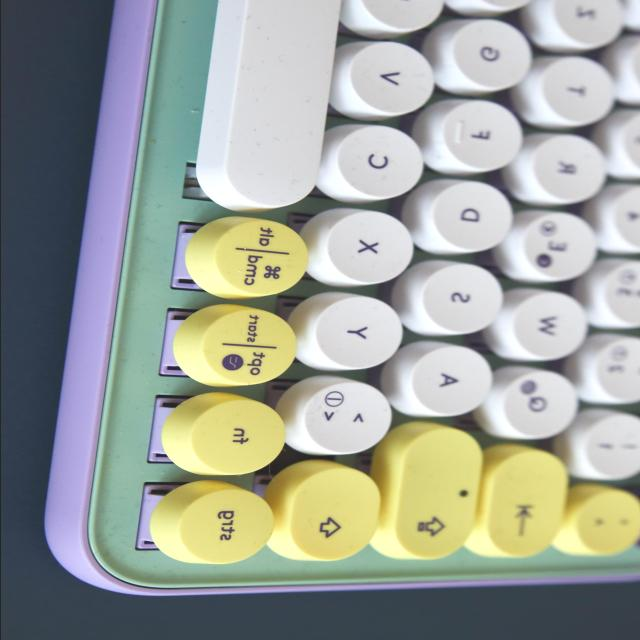1: (574, 412, 640, 482)
2: (584, 333, 640, 406)
3: (596, 259, 640, 331)
a: (402, 342, 496, 419)
alt-left: (191, 305, 299, 385)
b: (342, 0, 448, 35)
c: (324, 123, 426, 205)
caret: (566, 487, 640, 557)
d: (418, 179, 516, 256)
e: (502, 211, 599, 285)
f: (428, 98, 526, 174)
g: (437, 19, 534, 95)
keyboard: (7, 0, 640, 606)
less: (286, 376, 394, 458)
q: (486, 367, 580, 442)
r: (527, 133, 612, 205)
s: (411, 260, 505, 338)
shift-left: (279, 460, 384, 566)
shift-lock: (389, 426, 483, 563)
space: (212, 0, 342, 211)
strg-left: (164, 486, 272, 566)
t: (532, 57, 617, 129)
tab: (484, 445, 571, 562)
v: (334, 39, 440, 121)
w: (501, 289, 591, 362)
x: (312, 209, 420, 289)
y: (303, 292, 407, 376)
z: (532, 0, 625, 51)
